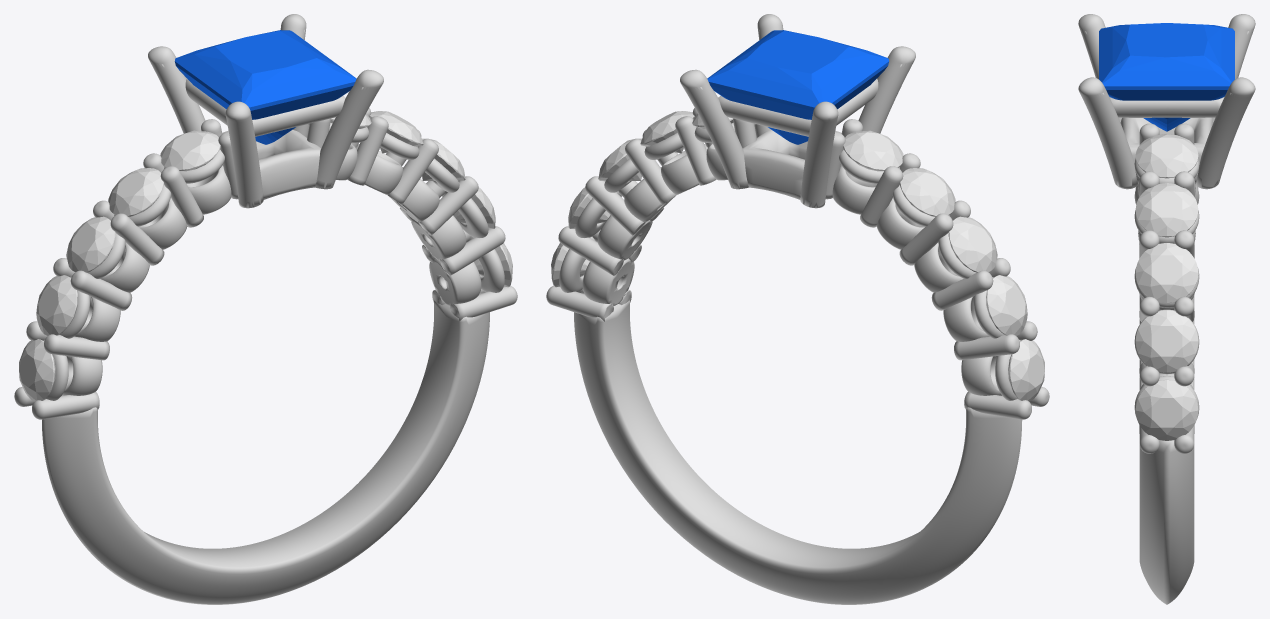
File: bluesapphire-princess-platinum-4prong-knifeedge-11stone.glb
3 views of the same model, side by side, from view 1: azimuth 30°, elevation 25°; view 2: azimuth 150°, elevation 25°; view 3: azimuth 270°, elevation 25° (orthographic).
Visible parts, largest first — view 1: metal, stone, side.002, side.003, side.001, side.004, side, side.008, side.007; view 2: metal, stone, side.002, side.003, side.001, side.004, side, side.008, side.007; view 3: metal, stone, side.006, side.005, side.007, side.008, side.009.
Boxes of the visible parts, box(x1,y1,x2,y2) form: metal: box(14, 14, 517, 604); stone: box(174, 30, 356, 144); side.002: box(66, 216, 115, 272); side.003: box(108, 168, 163, 216); side.001: box(36, 275, 77, 335); side.004: box(160, 130, 220, 171); side: box(19, 339, 55, 401); side.008: box(369, 111, 423, 153); side.007: box(422, 138, 465, 180); metal: box(546, 14, 1049, 604); stone: box(707, 30, 889, 144); side.002: box(948, 216, 997, 272); side.003: box(900, 168, 955, 216); side.001: box(986, 275, 1027, 335); side.004: box(843, 130, 903, 171); side: box(1008, 339, 1044, 401); side.008: box(640, 111, 694, 153); side.007: box(598, 138, 641, 180); metal: box(1078, 14, 1255, 604); stone: box(1099, 23, 1234, 131); side.006: box(1135, 310, 1198, 372); side.005: box(1135, 379, 1198, 440); side.007: box(1135, 243, 1198, 303); side.008: box(1135, 183, 1198, 237); side.009: box(1135, 134, 1198, 178).
Bounding box in the file's own units: 22 × 23.85 × 7.08.
